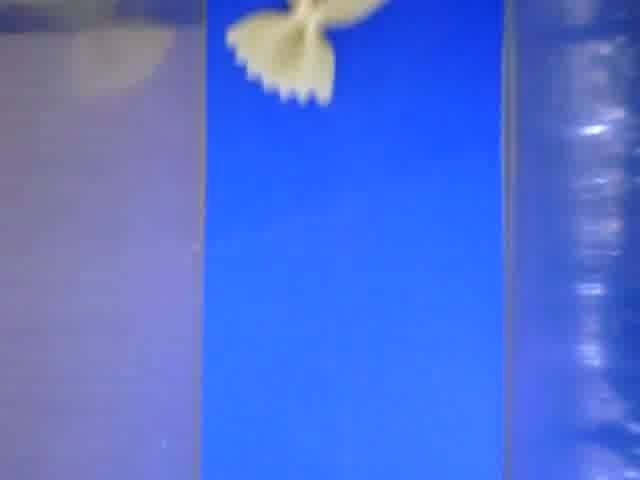farfalle: (223, 1, 387, 107)
